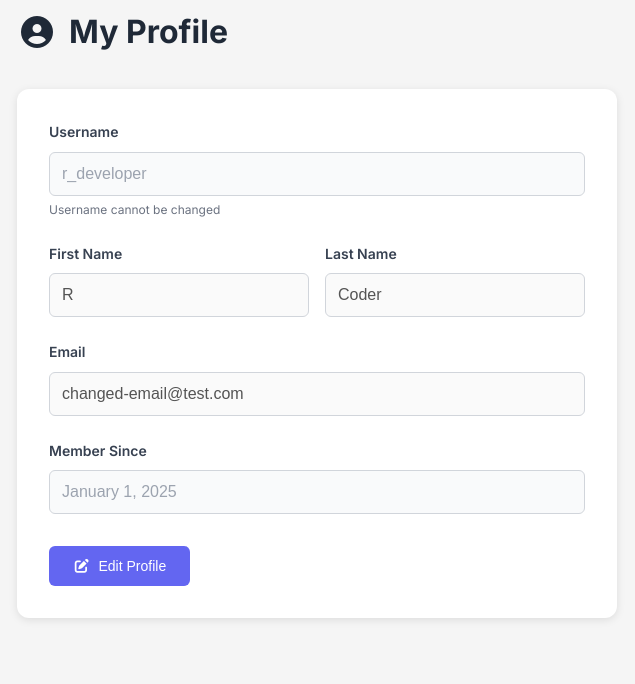
Test case: ProfilePage.vue › shows success message and updates state on successful save
This screenshot has width=635, height=684.
Click the button "Edit Profile". click: [120, 566]
box: [49,546,190,586]
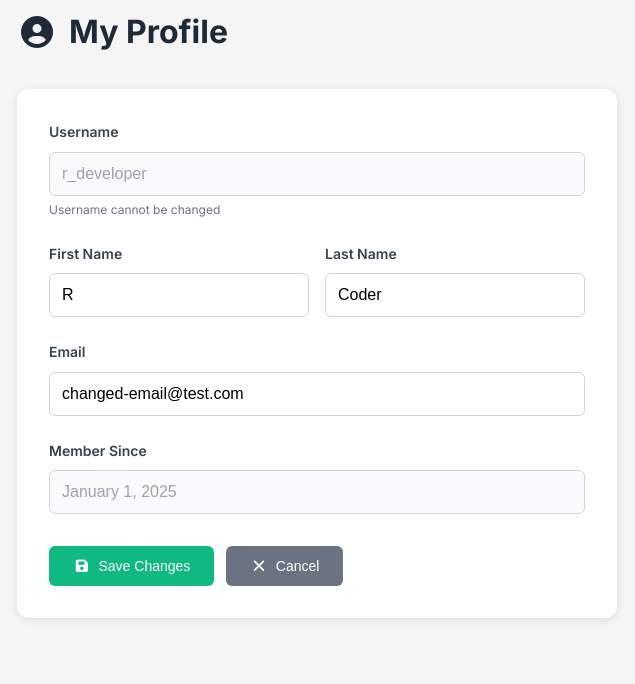
Replace the text in the field below "First Name" with "Updated". click: [179, 295]
box: [49,273,309,317]
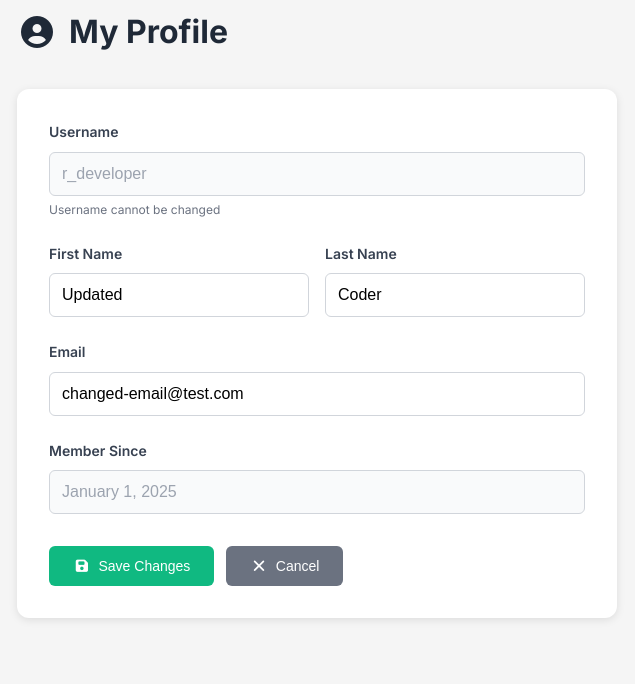
Submit the form, box [49,121,585,586]
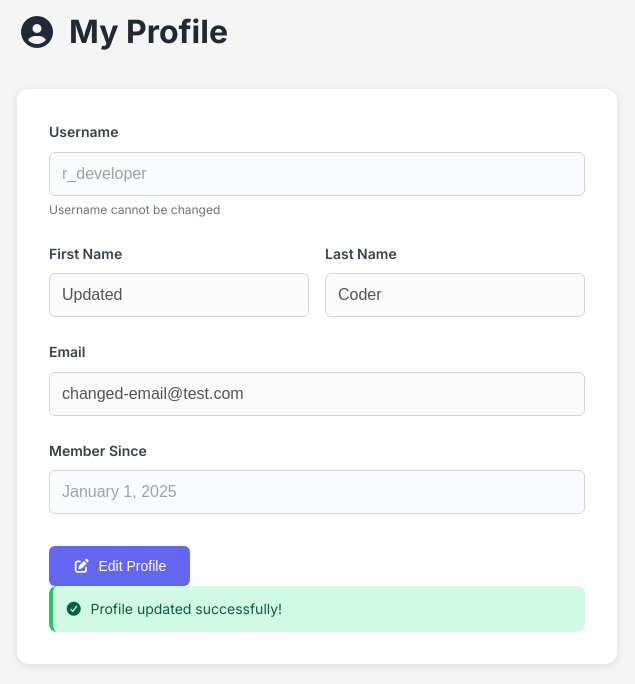
Expected: the element with class "success-message" is shown, [49,586,585,632]
Expected: the element with class "success-message" shows "successfully", [90,600,282,617]
Expected: the button "Edit Profile" is shown, [49,546,190,586]
